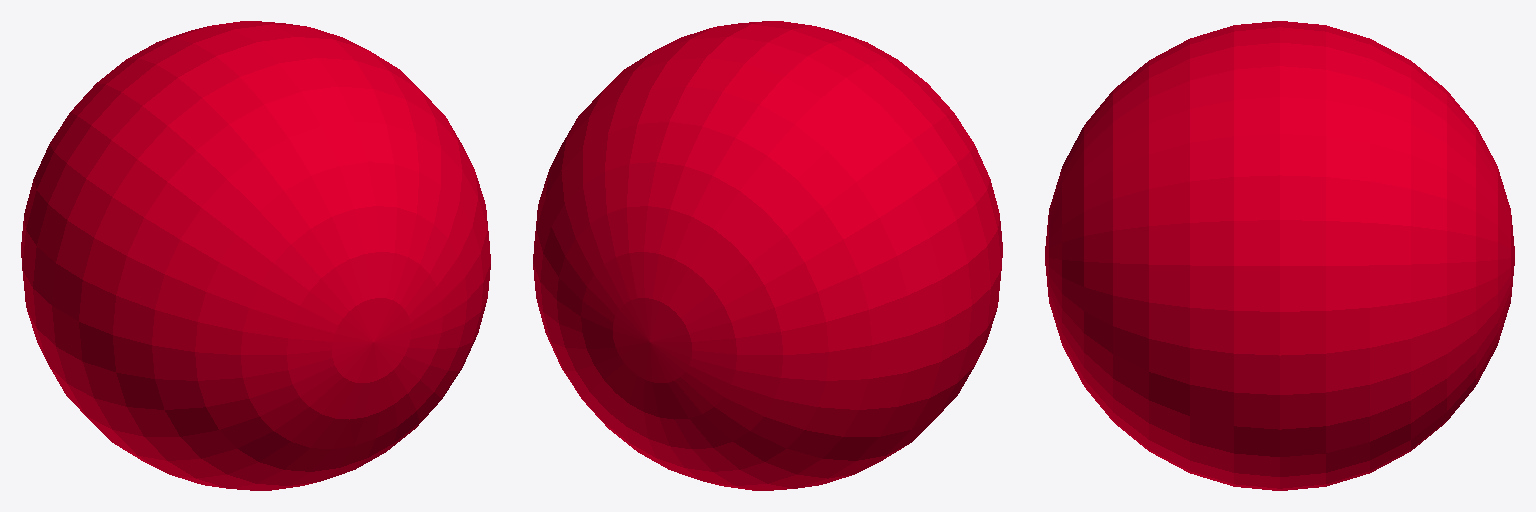
robot.urdf — sphere.urdf:
<?xml version="1.0" ?>
<robot name="sphere.urdf">
  <link name="sphere">
    <contact>
    	<friction_anchor/>
    	   <lateral_friction value="1.0"/>
    </contact>
    <inertial>
      <origin rpy="0 0 0" xyz="0 0 0"/>
       <mass value=".1"/>
       <inertia ixx="1" ixy="0" ixz="0" iyy="1" iyz="0" izz="1"/>
    </inertial>
    <visual>
      <origin rpy="0 0 0" xyz="0 0 0"/>
      <geometry>
				<mesh filename="sphere_rounded.obj" scale="1.0 1.0 1.0"/>
      </geometry>
       <material name="red">
        <color rgba="0.9 0 0.2 1.0"/>
      </material>
    </visual>
    <collision>
      <origin rpy="0 0 0" xyz="0 0 0"/>
      <geometry>
				<mesh filename="sphere_rounded.obj" scale="1.0 1.0 1.0"/>
      </geometry>
    </collision>
  </link>
</robot>

--- Render facts (derived) ---
3 views of the same robot in one strip: view 1: azimuth 30°, elevation 25°; view 2: azimuth 150°, elevation 25°; view 3: azimuth 270°, elevation 25° (orthographic).
Model sphere.urdf with 1 links and 0 joints (none), rooted at sphere, posed every joint at zero.
Visible links, largest first — view 1: sphere; view 2: sphere; view 3: sphere.
Link boxes in pixels (left/top/right/bottom): sphere: left=21, top=21, right=490, bottom=490; sphere: left=533, top=21, right=1002, bottom=490; sphere: left=1045, top=21, right=1514, bottom=490.
Size in the robot's own frame: 0.1 by 0.1 by 0.1 metres.
1 mesh visuals loaded from 1 distinct referenced files (1 OBJ).